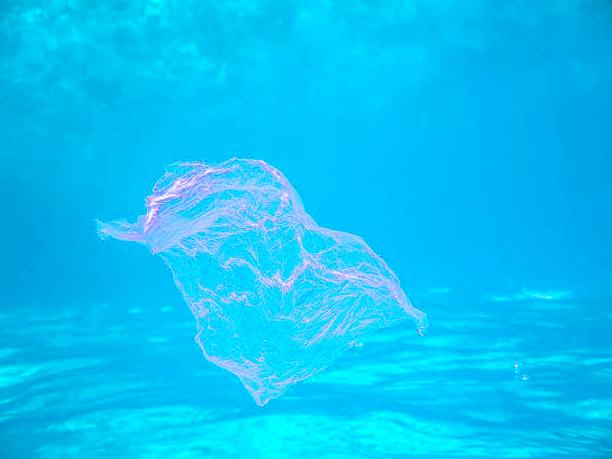Trash: (86, 159, 439, 406)
